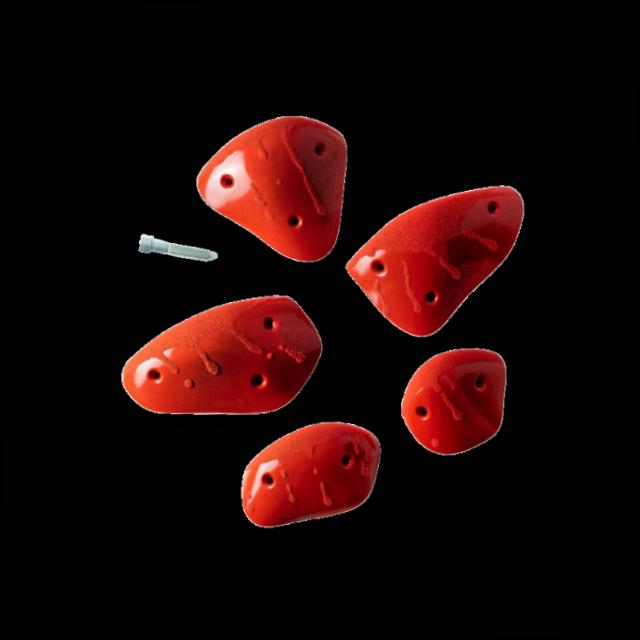Hold: (352, 183, 528, 337), (116, 292, 320, 421), (196, 107, 344, 261), (240, 422, 384, 542), (402, 344, 509, 460)
